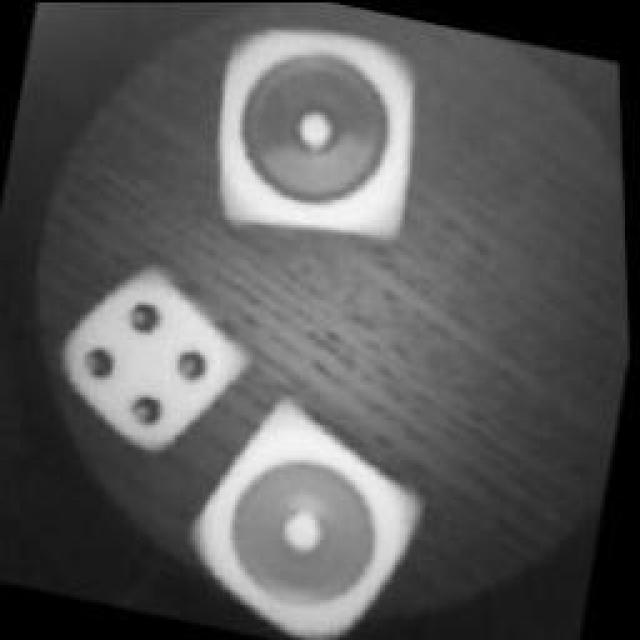dice_1: (170, 392, 440, 640), (191, 2, 451, 248)
dice_4: (46, 256, 259, 462)
